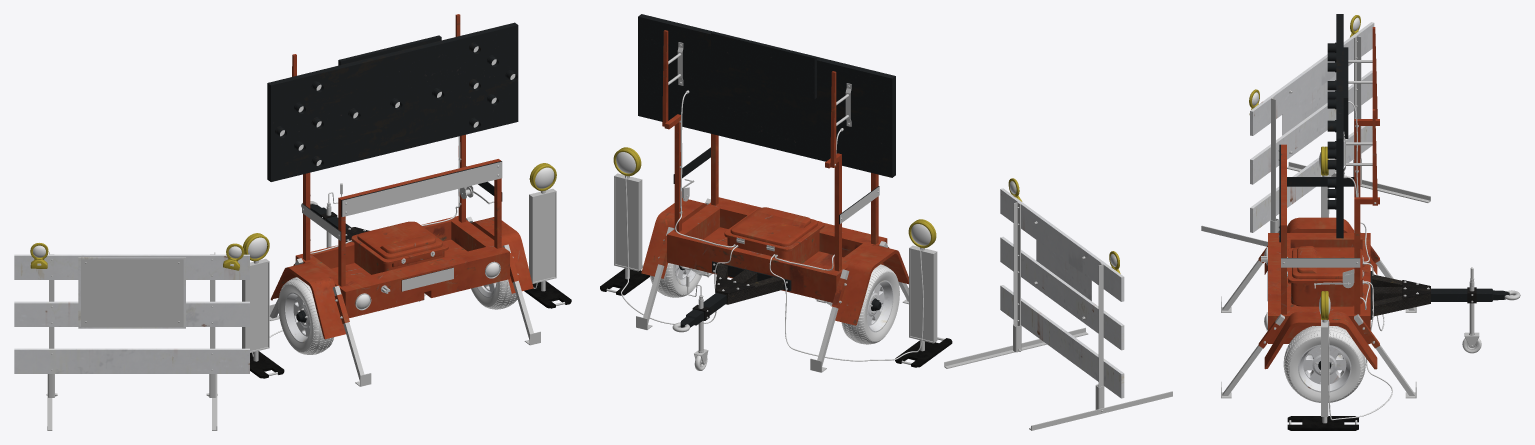
Rendered from KB3D_CTS_BldgSM_K.fbx.
3 views of the same model, side by side, from view 1: azimuth 30°, elevation 25°; view 2: azimuth 150°, elevation 25°; view 3: azimuth 270°, elevation 25° (orthographic). The views are drawn at different scales.
Visible parts, largest first — view 1: KB3D_CTS_BldgSM_K_RoadblockTrailer, KB3D_CTS_BldgSM_K_Barrier, KB3D_CTS_BldgSM_K_RoadSignA, KB3D_CTS_BldgSM_K_RoadSignB; view 2: KB3D_CTS_BldgSM_K_RoadblockTrailer, KB3D_CTS_BldgSM_K_Barrier, KB3D_CTS_BldgSM_K_RoadSignB, KB3D_CTS_BldgSM_K_RoadSignA, KB3D_CTS_BldgSM_K_Cable; view 3: KB3D_CTS_BldgSM_K_RoadblockTrailer, KB3D_CTS_BldgSM_K_Barrier, KB3D_CTS_BldgSM_K_RoadSignA, KB3D_CTS_BldgSM_K_Cable, KB3D_CTS_BldgSM_K_RoadSignB.
Boxes of the visible parts, bbox=[...] form: KB3D_CTS_BldgSM_K_RoadblockTrailer: bbox=[267, 14, 540, 386]; KB3D_CTS_BldgSM_K_Barrier: bbox=[14, 243, 249, 430]; KB3D_CTS_BldgSM_K_RoadSignA: bbox=[524, 163, 571, 308]; KB3D_CTS_BldgSM_K_RoadSignB: bbox=[242, 233, 284, 378]; KB3D_CTS_BldgSM_K_RoadblockTrailer: bbox=[636, 14, 908, 372]; KB3D_CTS_BldgSM_K_Barrier: bbox=[944, 178, 1172, 430]; KB3D_CTS_BldgSM_K_RoadSignB: bbox=[895, 219, 952, 367]; KB3D_CTS_BldgSM_K_RoadSignA: bbox=[600, 147, 649, 295]; KB3D_CTS_BldgSM_K_Cable: bbox=[621, 176, 923, 361]; KB3D_CTS_BldgSM_K_RoadblockTrailer: bbox=[1221, 14, 1520, 402]; KB3D_CTS_BldgSM_K_Barrier: bbox=[1201, 15, 1430, 246]; KB3D_CTS_BldgSM_K_RoadSignA: bbox=[1287, 291, 1358, 430]; KB3D_CTS_BldgSM_K_Cable: bbox=[1327, 175, 1392, 420]; KB3D_CTS_BldgSM_K_RoadSignB: bbox=[1319, 146, 1330, 217].
Bounding box in the file's own units: 502 × 252 × 256.
